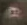limite 60: (3, 4, 24, 21)
